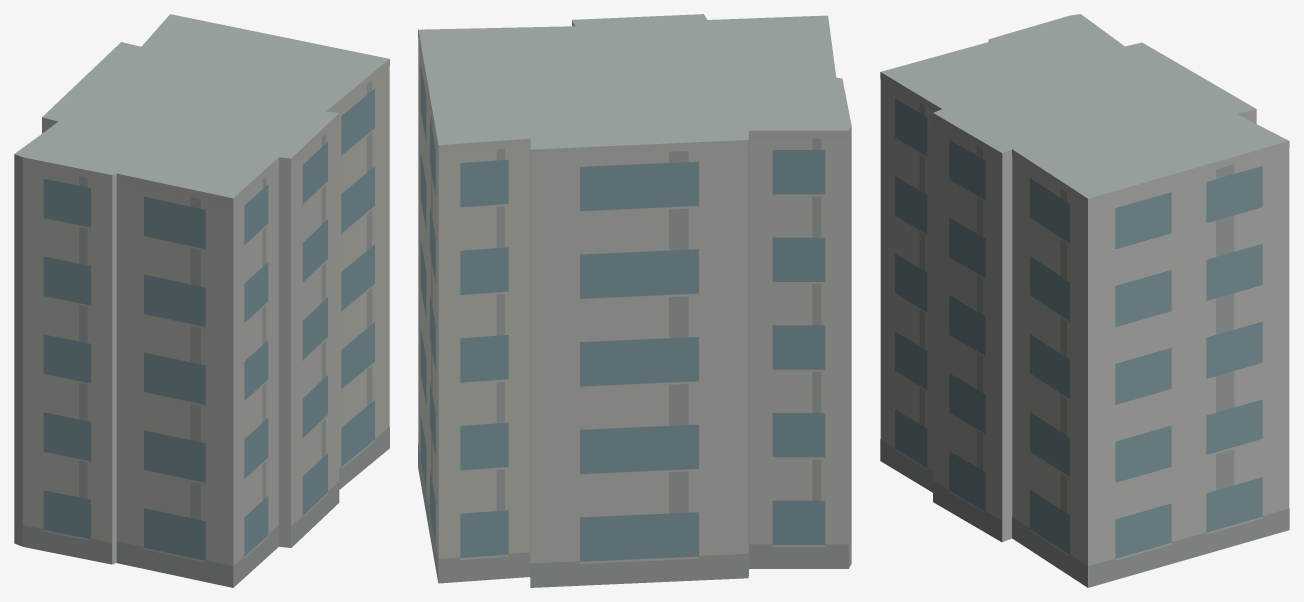
The model's file is survey-upis-32724547.glb.
The picture shows the model from 3 angles, left to right: view 1: azimuth 30°, elevation 25°; view 2: azimuth 150°, elevation 25°; view 3: azimuth 270°, elevation 25°; orthographic projection. The views are drawn at different scales.
Visible parts, largest first — view 1: survey-upis-32724547.tmp; view 2: survey-upis-32724547.tmp; view 3: survey-upis-32724547.tmp.
Boxes of the visible parts, x1,y1,x2,y2 form: survey-upis-32724547.tmp: (14, 14, 389, 587); survey-upis-32724547.tmp: (418, 14, 851, 587); survey-upis-32724547.tmp: (880, 14, 1289, 587).
Size of the model in its own units: 13.04 by 12.8 by 12.2.
